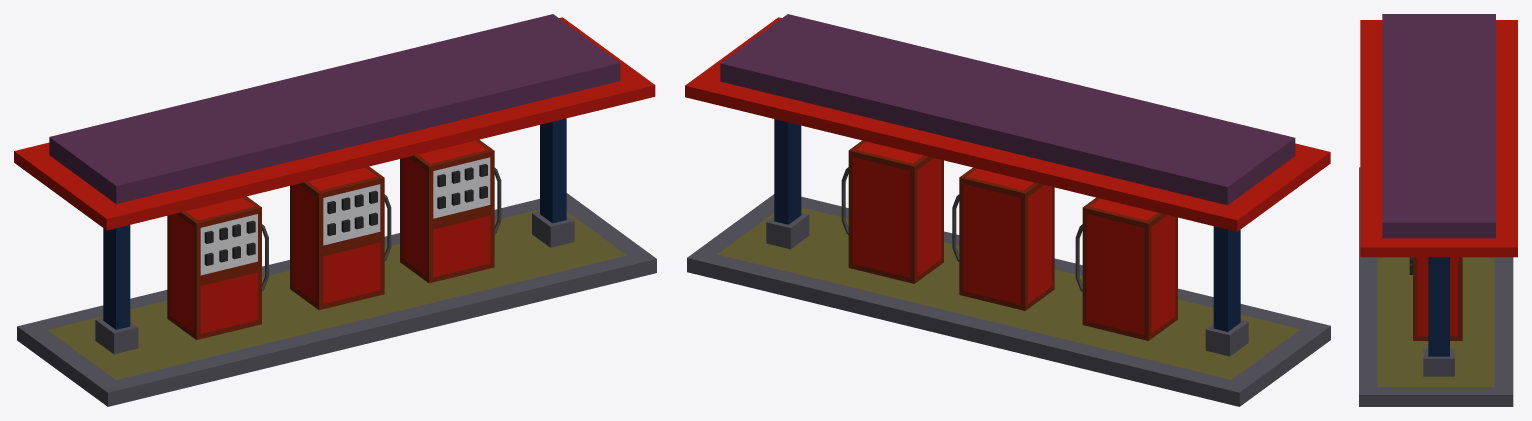
Rendered from gas station2.FBX.
3 views of the same model, side by side, from view 1: azimuth 30°, elevation 25°; view 2: azimuth 150°, elevation 25°; view 3: azimuth 270°, elevation 25° (orthographic). The views are drawn at different scales.
Parts seen in each view (by area): view 1: gas station2; view 2: gas station2; view 3: gas station2.
Part boxes in pixels (x1,y1,x2,y2): gas station2: (14,14,656,406); gas station2: (685,14,1330,406); gas station2: (1359,14,1517,406).
Size of the model in its own units: 29 by 10.37 by 8.55.
